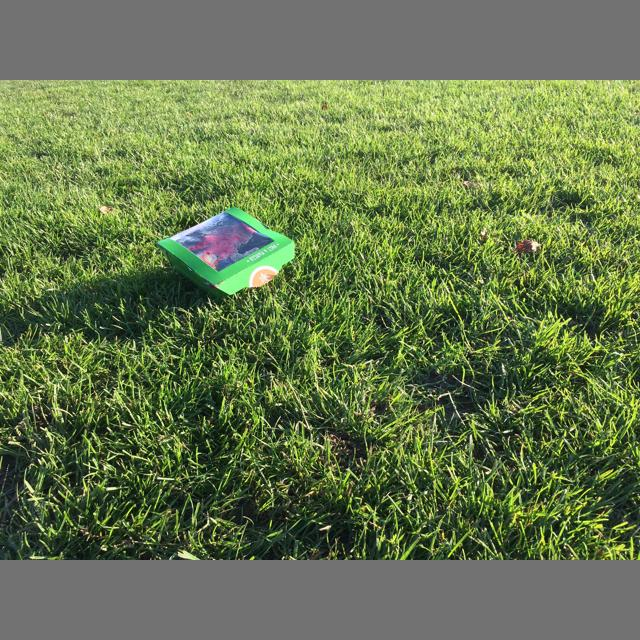litter: (156, 206, 295, 300), (169, 212, 274, 272)
